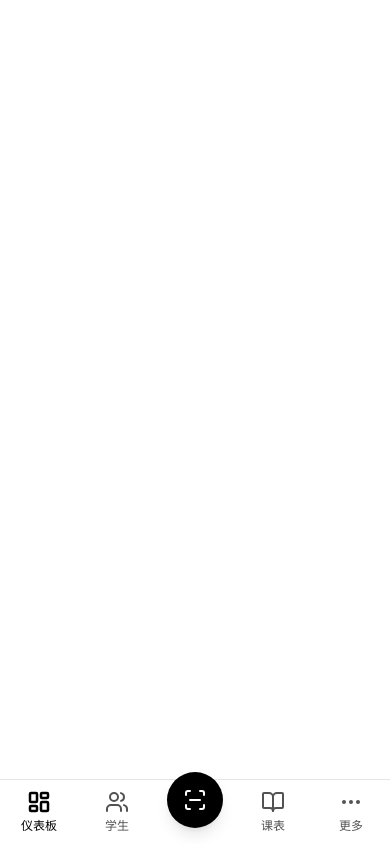
Test: BottomNav › 点击「更多」打开 BottomSheet
The width and height of the screenshot is (390, 844).
Click the button "更多" at (351, 812), box [312,780,389,843]
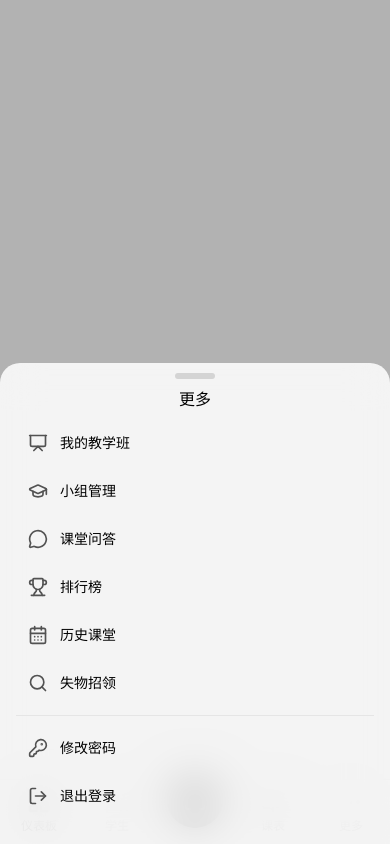
Check: the dialog is shown, box [0,363,389,843]
